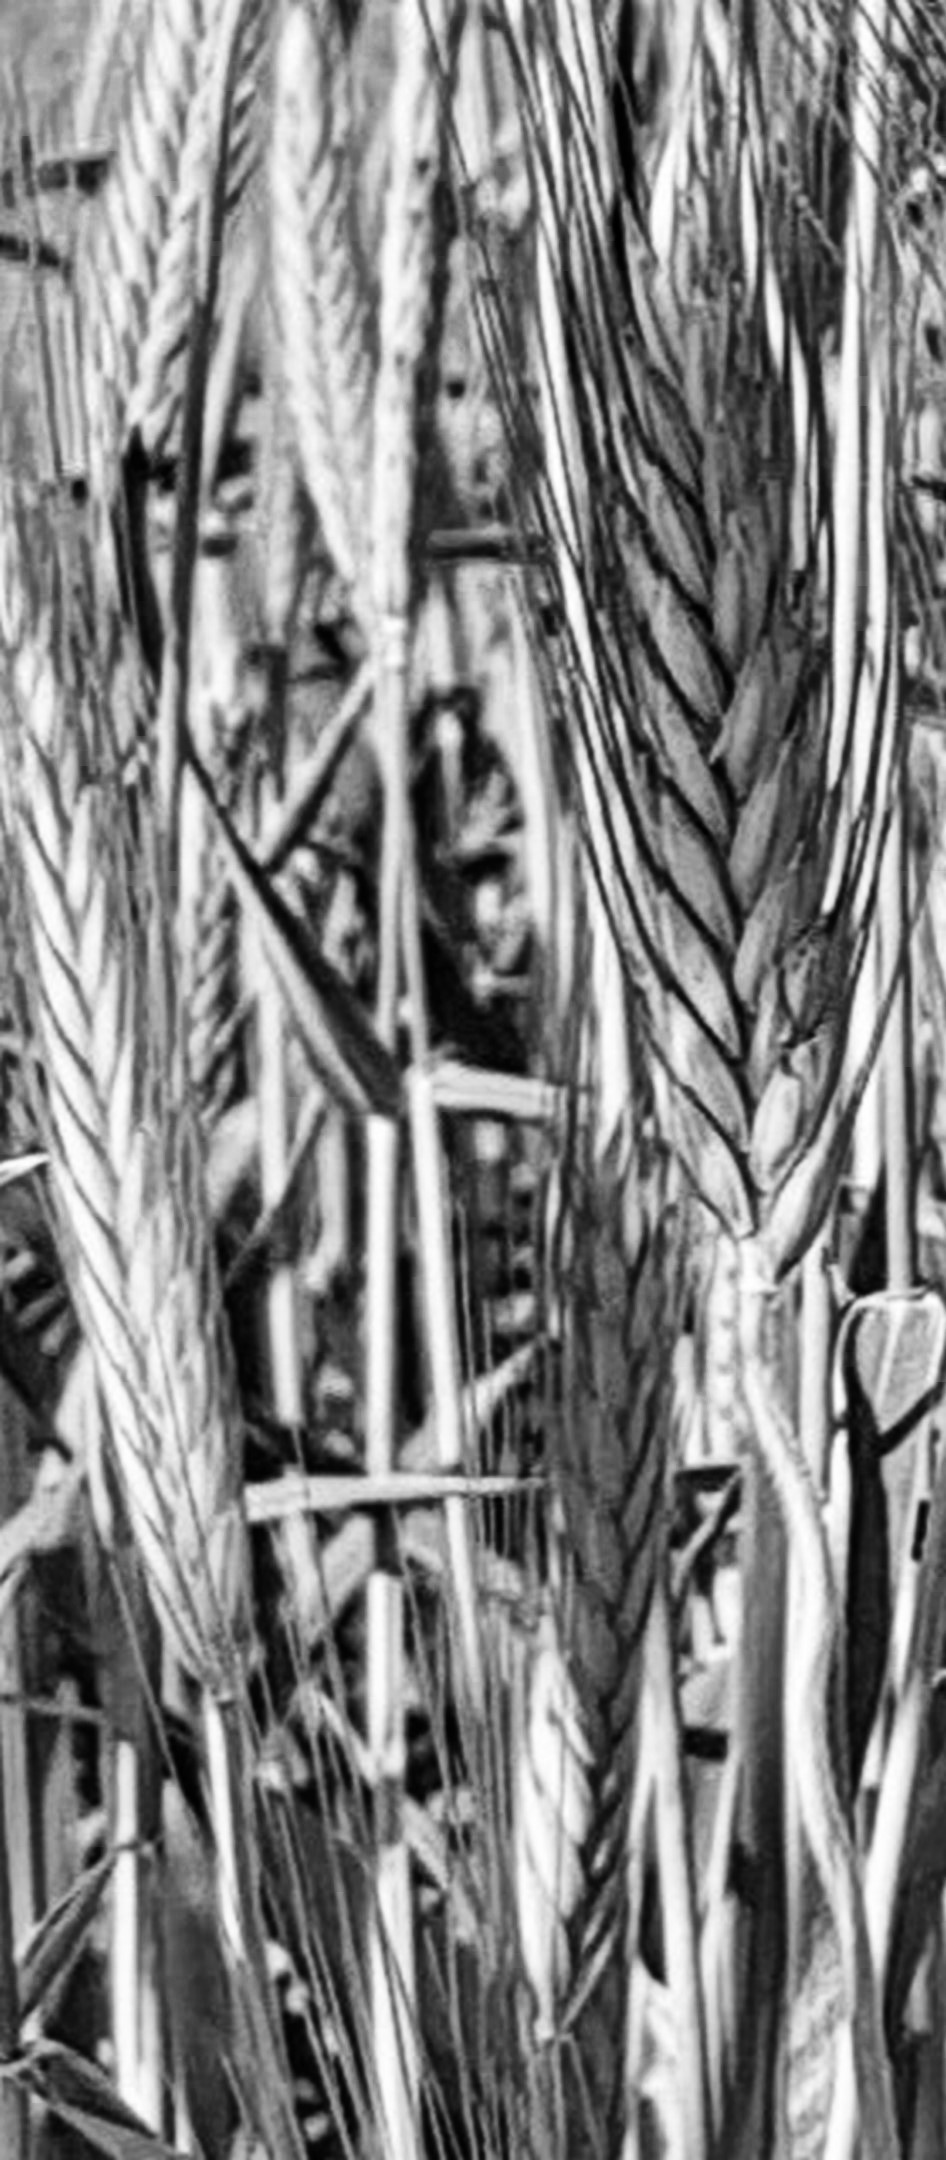Healthy Wheat: (23, 612, 280, 1694), (576, 324, 872, 1245)
